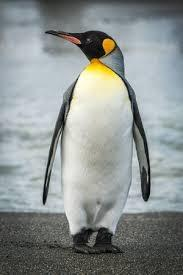king: (25, 16, 181, 257)
